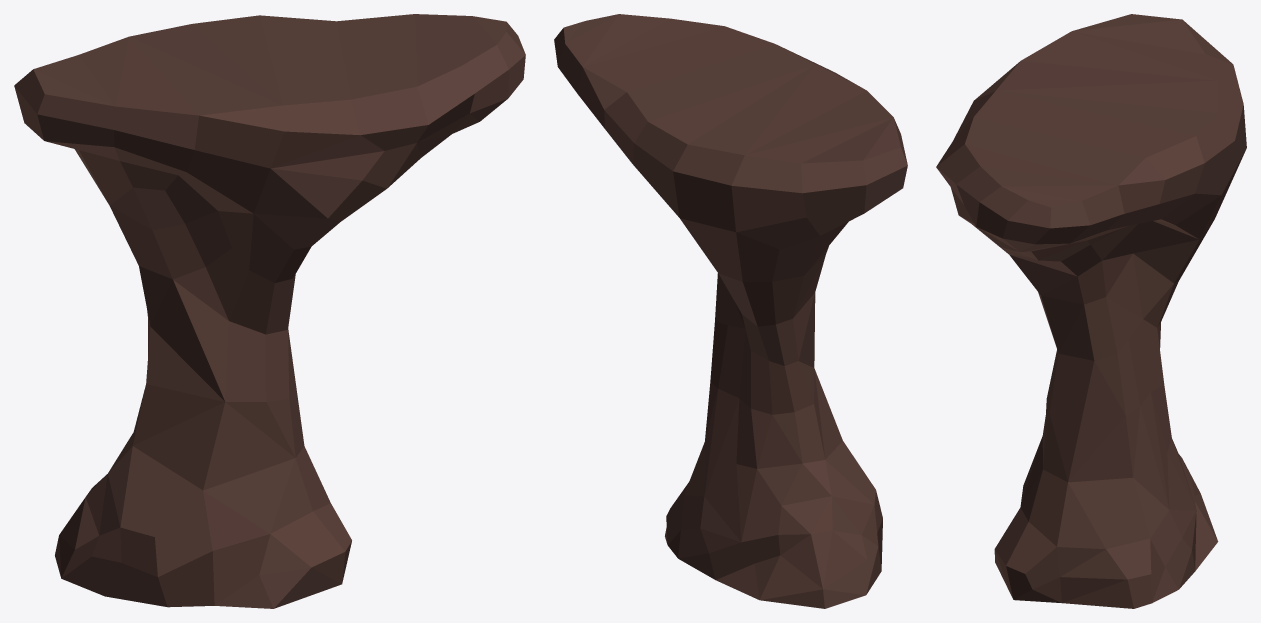
File: Pillar-B11.fbx
3 views of the same model, side by side, from view 1: azimuth 30°, elevation 25°; view 2: azimuth 150°, elevation 25°; view 3: azimuth 270°, elevation 25° (orthographic). The views are drawn at different scales.
Visible parts, largest first — view 1: Pillar-B11; view 2: Pillar-B11; view 3: Pillar-B11.
Part boxes in pixels (box(x1,y1,x2,y2)): Pillar-B11: box(14, 14, 525, 608); Pillar-B11: box(554, 14, 907, 608); Pillar-B11: box(936, 14, 1246, 608).
Bounding box in the file's own units: 306 × 198 × 339.
